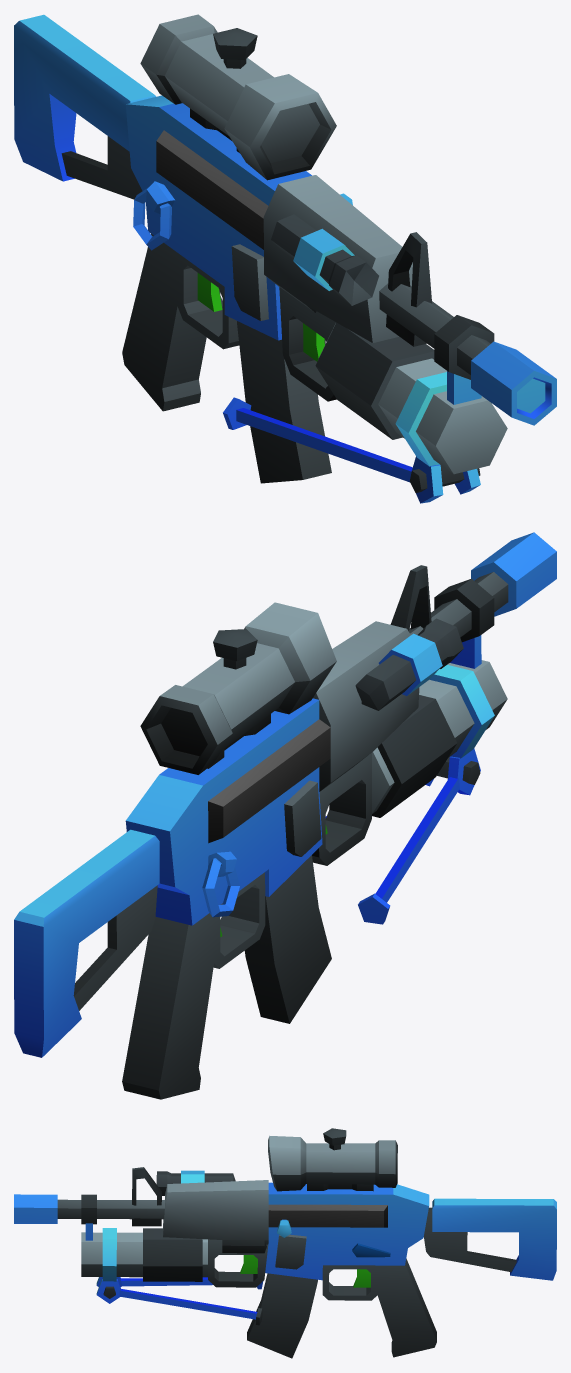
File: Level5Gun.fbx
3 views of the same model, one above another, from view 1: azimuth 30°, elevation 25°; view 2: azimuth 150°, elevation 25°; view 3: azimuth 270°, elevation 25° (orthographic). The views are drawn at different scales.
Parts seen in each view (by area): view 1: Weapons_035; view 2: Weapons_035; view 3: Weapons_035.
Part boxes in pixels (x1=…): Weapons_035: x1=14, y1=14, x2=556, y2=503; Weapons_035: x1=14, y1=532, x2=556, y2=1099; Weapons_035: x1=14, y1=1128, x2=556, y2=1358.
Bounding box in the file's own units: 23.29 × 56.01 × 123.
Materials: 1 (1 with a texture image).
